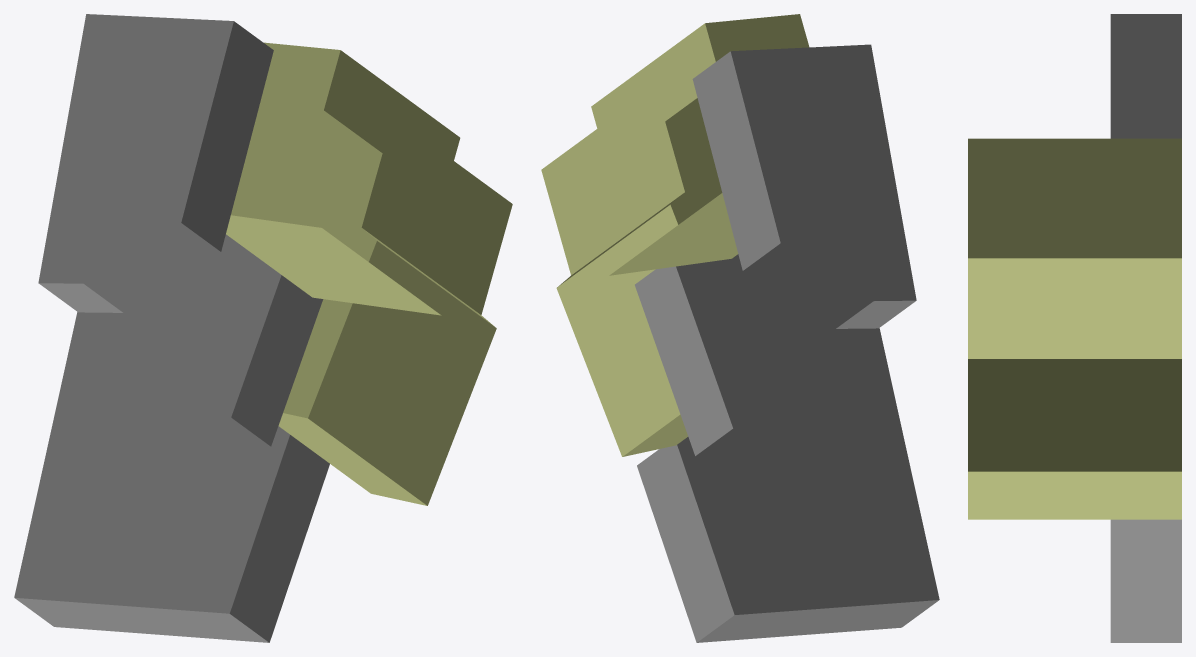
The picture shows the model from 3 angles, left to right: view 1: azimuth 30°, elevation 25°; view 2: azimuth 150°, elevation 25°; view 3: azimuth 270°, elevation 25°; orthographic projection. The views are drawn at different scales.
Visible parts, largest first — view 1: 0_1_0_2_1_3_0_2_0_0; view 2: 0_1_0_2_1_3_0_2_0_0; view 3: 0_1_0_2_1_3_0_2_0_0.
Boxes of the visible parts, <box> form: 0_1_0_2_1_3_0_2_0_0: <box>14,14,512,642</box>; 0_1_0_2_1_3_0_2_0_0: <box>541,14,939,642</box>; 0_1_0_2_1_3_0_2_0_0: <box>968,14,1181,642</box>.
Size of the model in its own units: 16.44 by 26.31 by 9.
